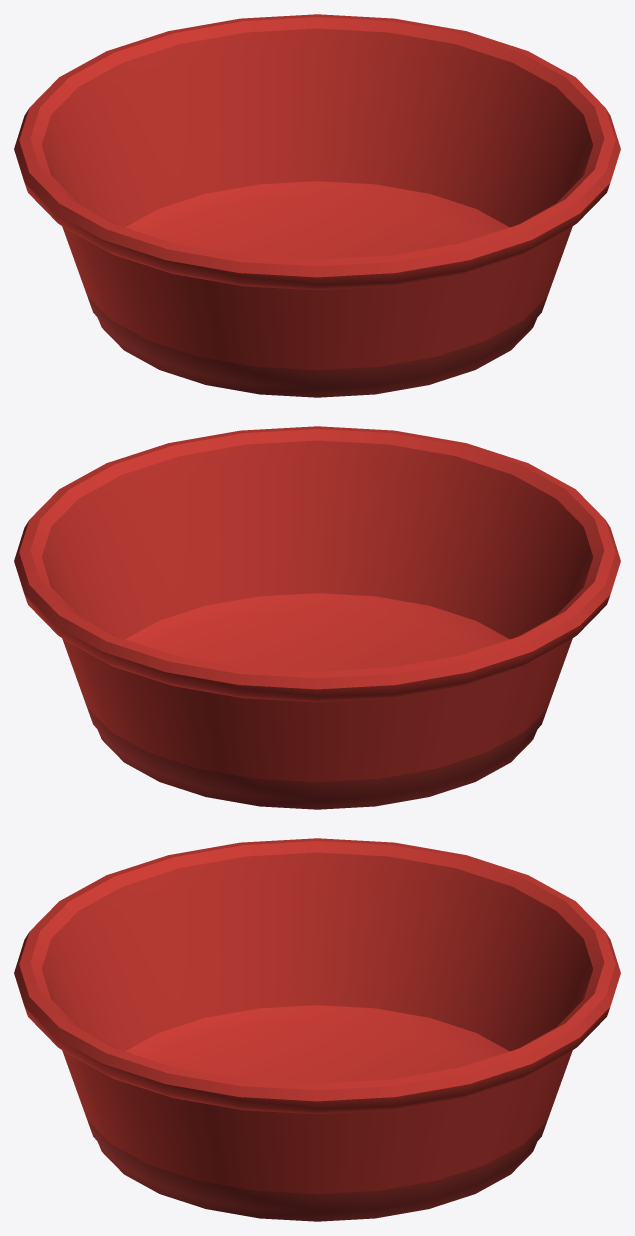
The model's file is SC_Home_RubberBasin_L.gltf.
3 views of the same model, one above another, from view 1: azimuth 30°, elevation 25°; view 2: azimuth 150°, elevation 25°; view 3: azimuth 270°, elevation 25° (orthographic).
Visible parts, largest first — view 1: SC_Home_RubberBasin_L; view 2: SC_Home_RubberBasin_L; view 3: SC_Home_RubberBasin_L.
Part boxes in pixels (x1,y1,x2,y2): SC_Home_RubberBasin_L: (14,14,620,397); SC_Home_RubberBasin_L: (14,426,620,809); SC_Home_RubberBasin_L: (14,838,620,1221).
Size of the model in its own units: 0.81 by 0.249 by 0.81.
1 material, 1 textured.
